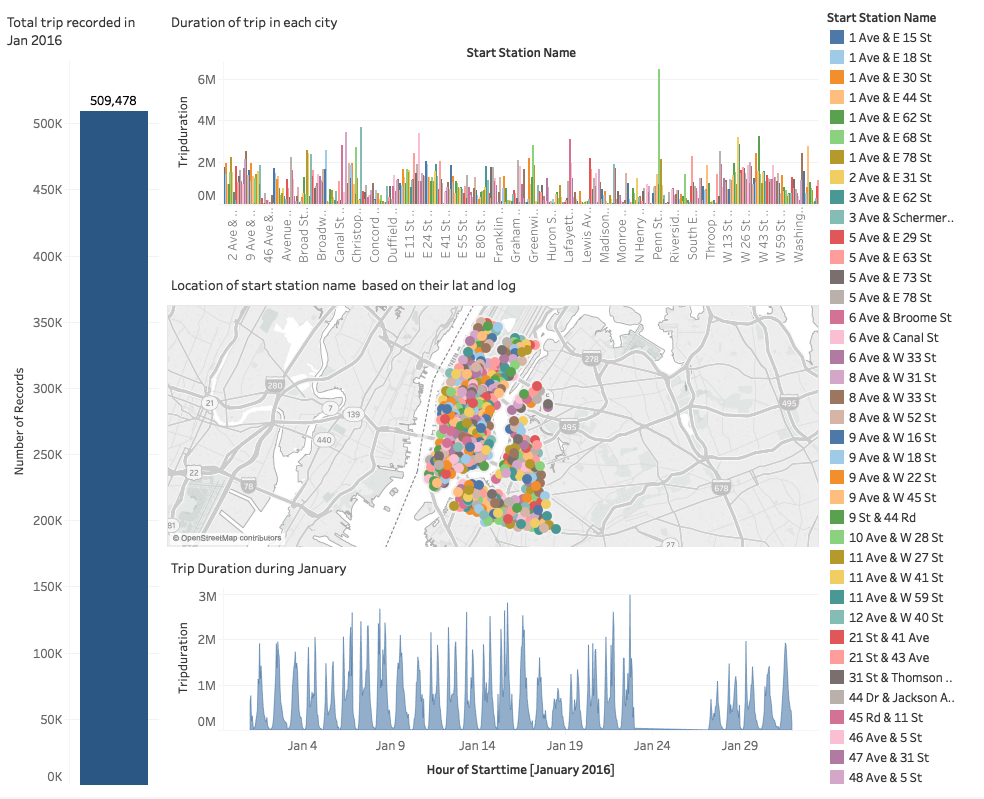

This screenshot's page, from the dashboard's own definition file:
{"tool":"tableau","page":{"name":"Dashboard 1","canvas":[1000,800],"ordinal":0},"visuals":[{"type":"worksheet","title":"Sheet 1","mark":"Automatic","rows":["Number of Records"],"box":[8,8,164,784]},{"type":"worksheet","title":"Sheet 4","mark":"Automatic","rows":["tripduration"],"cols":["start station name"],"box":[172,8,660,269.3]},{"type":"legend","title":"Sheet 4","param":"[federated.1h5ttso0bigpv51cfp51509w1irc].[none:start station name:nk]","box":[832,8,160,784]},{"type":"worksheet","title":"Sheet 5","mark":"Automatic","rows":["start station latitude"],"cols":["start station longitude"],"box":[172,277.3,660,280.3]},{"type":"worksheet","title":"Sheet 3","mark":"Area","rows":["tripduration"],"cols":["starttime"],"box":[172,557.7,660,234.3]}]}

Visuals, with their boxes in screenshot pixels (x1, y1, x2, y2), scaled from the page's 1000x800 canvas onto the 984x799 screenshot:
"Sheet 1" worksheet: x1=8, y1=8, x2=169, y2=791
"Sheet 4" worksheet: x1=169, y1=8, x2=819, y2=277
"Sheet 4" legend: x1=819, y1=8, x2=976, y2=791
"Sheet 5" worksheet: x1=169, y1=277, x2=819, y2=557
"Sheet 3" worksheet (Area marks): x1=169, y1=557, x2=819, y2=791
